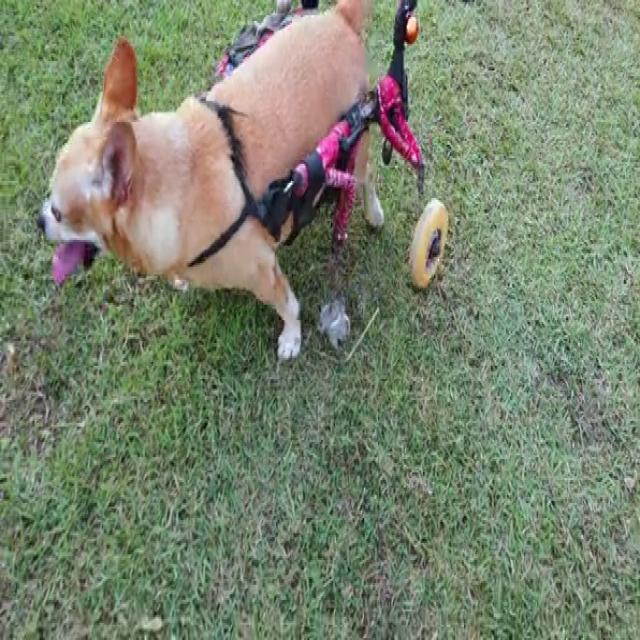injured-animals: (33, 2, 440, 366)
